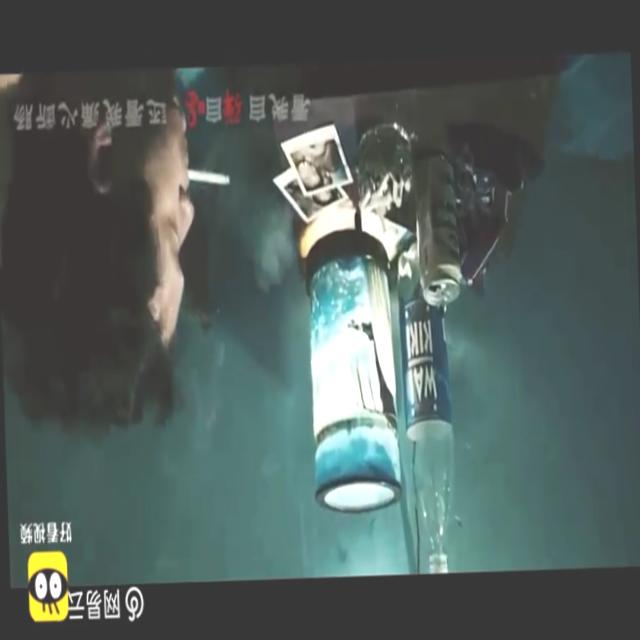cigarette: (186, 163, 232, 190)
